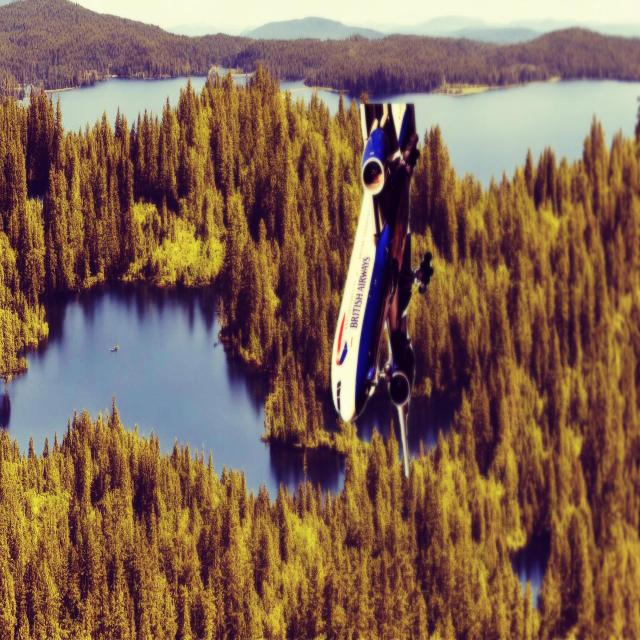airplane: (330, 100, 434, 478)
